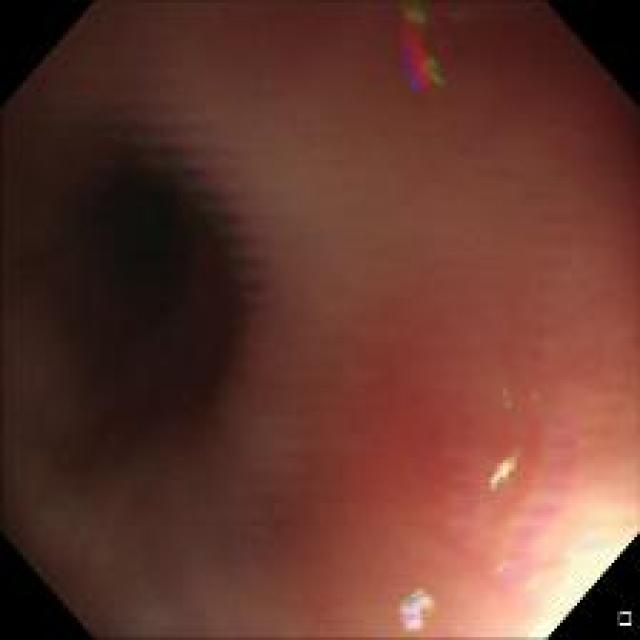color misalignment: (394, 4, 449, 98), (396, 578, 444, 638), (486, 446, 521, 484)
contrast: (26, 125, 255, 484)
saturation: (532, 534, 628, 634)
